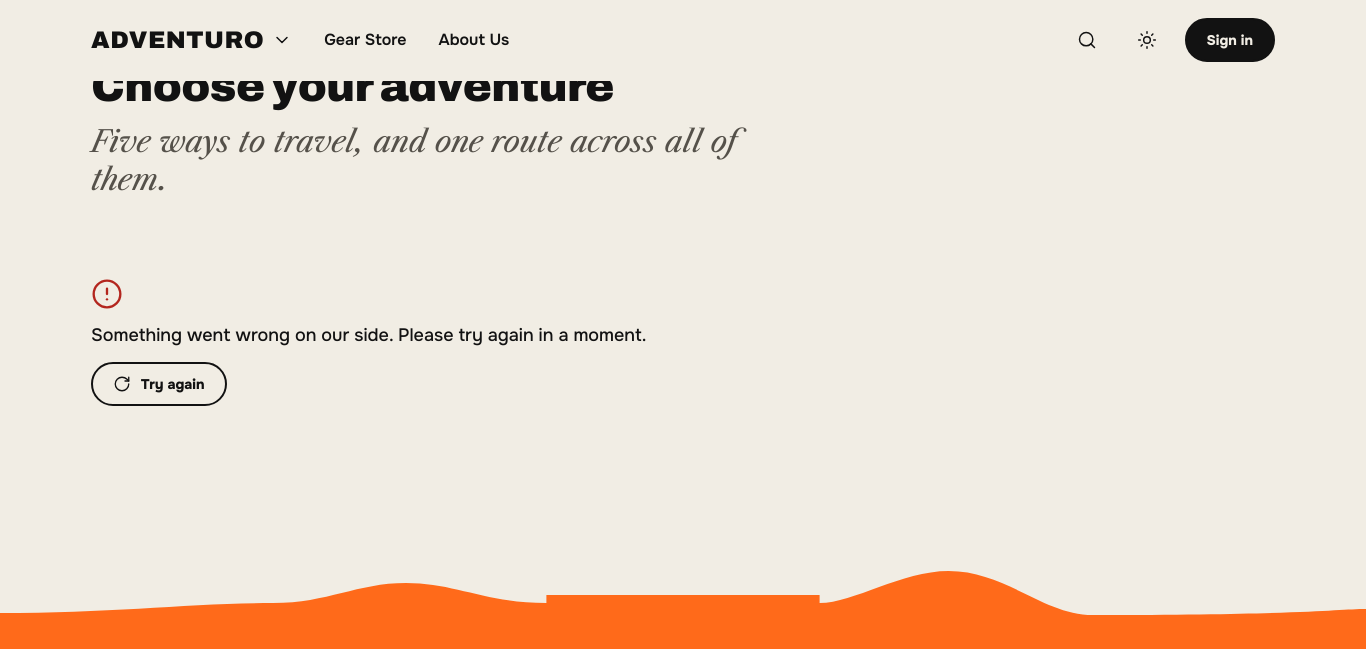
HomePage › shows an error with a retry in a section that fails, and recovers on Try again
(page scrolled)
Expected: the message shows "Something went wrong on our side. Please try again in a moment.", [91, 324, 646, 346]
Expected: the message does not show "Raw server message", [91, 278, 646, 406]
Click the button "Try again" at (159, 384), box [91, 362, 226, 406]
(page scrolled)
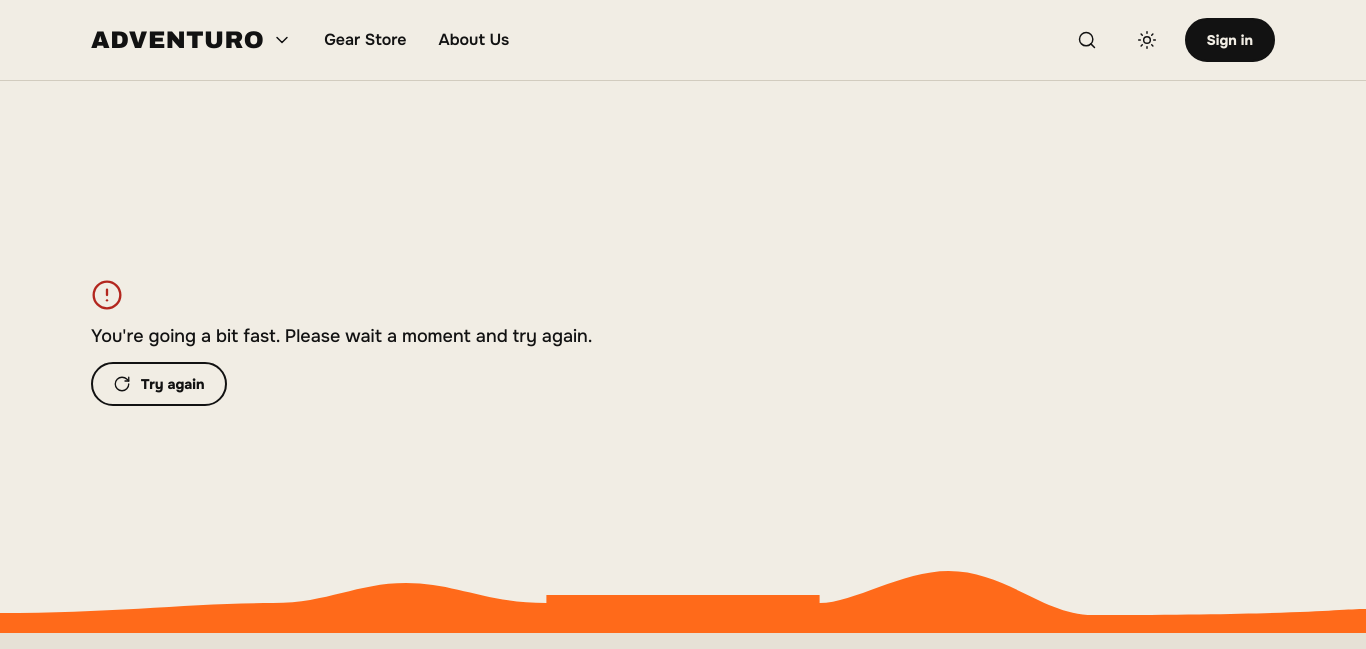
Click the button "Try again" at (159, 384), box [91, 362, 226, 406]
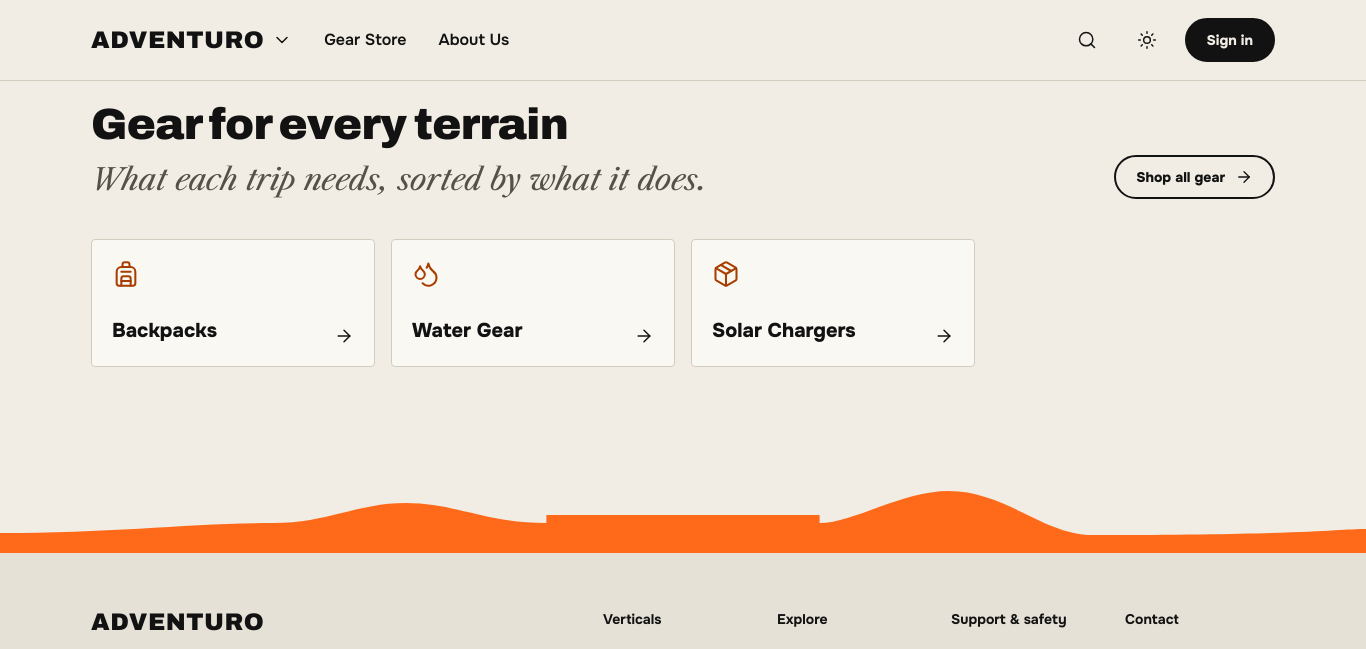
Expected: the link "Water Gear" is shown, [391, 238, 675, 366]
